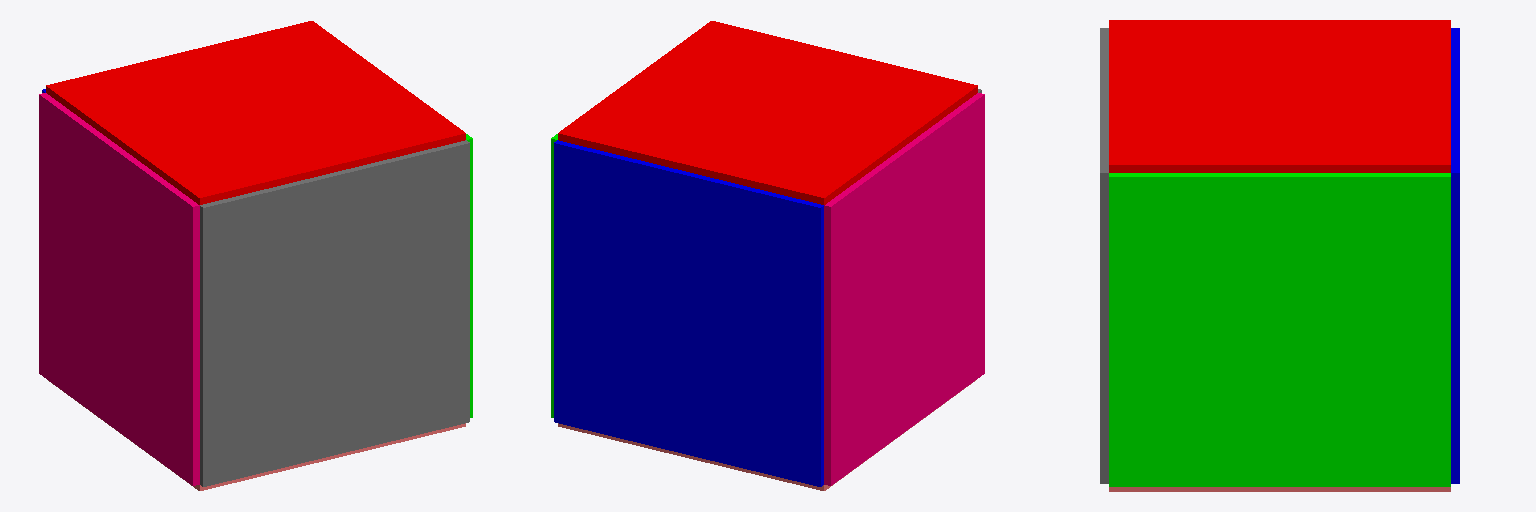
URDF robot description (box):
<?xml version="1.0"?>
<robot name="box">

  <material name="red">
    <color rgba="1 0 0 1"/>
  </material>

  <material name="coral">
    <color rgba="1.0 0.5 0.5 1"/>
  </material>  

  <material name="blue">
    <color rgba="0 0 1 1"/>
  </material>    

  <material name="green">
    <color rgba="0 1 0 1"/>
  </material>    

  <material name="grey">
    <color rgba="0.5 0.5 0.5 1"/>
  </material>      

  <material name="magenta">
    <color rgba="1.0 0 0.5 1"/>
  </material>        

  <link name="box">
    <inertial>
      <mass value="1"/>
      <!-- Inertia values were calculated to be consistent with the mass and
           geometry size, assuming a uniform density. -->
      <inertia ixx="0.0108" ixy="0" ixz="0" iyy="0.0083" iyz="0" izz="0.0042"/>
    </inertial>
    
    <visual name="center">
      <geometry>
        <box size=".035 .035 .035"/>
      </geometry>
    </visual>
    
    <visual name="zplus">
      <geometry>
        <box size=".035 .035 .00175"/>
      </geometry>
      <material name="red"/>
      <origin xyz="0 0 0.0175"/>
    </visual>   

    <visual name="zminus">
      <geometry>
        <box size=".035 .035 .00175"/>
      </geometry>
      <material name="coral"/>
      <origin xyz="0 0 -0.0175"/>
    </visual>   

    <visual name="xplus">
      <geometry>
        <box size=".00175 0.035 0.035"/>
      </geometry>
      <material name="green"/>
      <origin xyz="0.0175 0 0"/>
    </visual>            

    <visual name="xminus">
      <geometry>
        <box size=".00175 0.035 0.035"/>
      </geometry>
      <material name="magenta"/>
      <origin xyz="-0.0175 0 0"/>
    </visual>             

    <visual name="yplus">
      <geometry>
        <box size="0.035 .00175 0.035"/>
      </geometry>
      <material name="blue"/>
      <origin xyz="0 0.0175 0"/>
    </visual>            

    <visual name="yminus">
      <geometry>
        <box size="0.035 .00175 0.035"/>
      </geometry>
      <material name="grey"/>
      <origin xyz="0 -0.0175 0"/>
    </visual>                        

    <collision name="box">
      <geometry>
        <box size=".035545 .035545 .035545"/>
      </geometry>
    </collision>
  </link>
</robot>

--- Facts derived from the render (not from the file) ---
The picture shows the robot from 3 angles, left to right: view 1: azimuth 30°, elevation 25°; view 2: azimuth 150°, elevation 25°; view 3: azimuth 270°, elevation 25°; orthographic projection.
Robot: box — 1 links, 0 joints (none); root link box; default pose: all joints at 0.
Visible links, largest first — view 1: box; view 2: box; view 3: box.
Boxes of the visible links, x1=… form: box: x1=39, y1=21, x2=472, y2=490; box: x1=551, y1=21, x2=984, y2=490; box: x1=1100, y1=20, x2=1459, y2=491.
Size in the robot's own frame: 0.0367 by 0.0367 by 0.0367 metres.
Geometry: primitives only (box / cylinder / sphere), no mesh files.